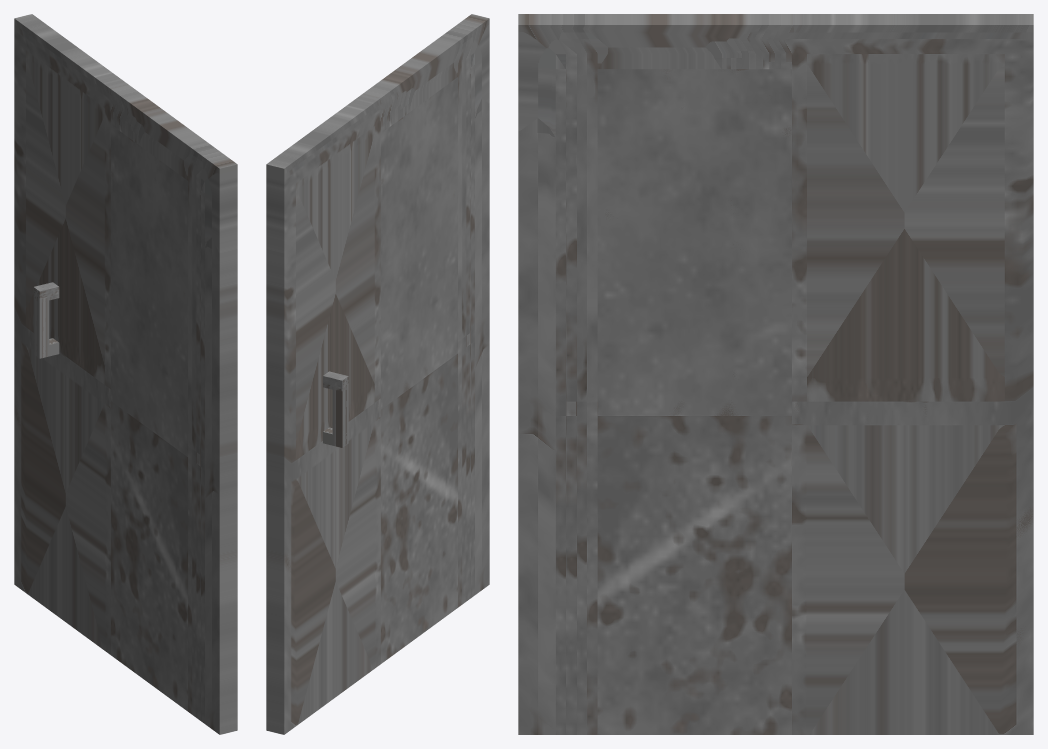
File: pintu.fbx
3 views of the same model, side by side, from view 1: azimuth 30°, elevation 25°; view 2: azimuth 150°, elevation 25°; view 3: azimuth 270°, elevation 25° (orthographic). The views are drawn at different scales.
Parts seen in each view (by area): view 1: pintu.001; view 2: pintu.001; view 3: pintu.001.
Part boxes in pixels (x1,y1,x2,y2): pintu.001: (14,14,237,734); pintu.001: (266,14,489,734); pintu.001: (518,14,1033,734).
Size of the model in its own units: 0.4384 by 6.34 by 4.17.
